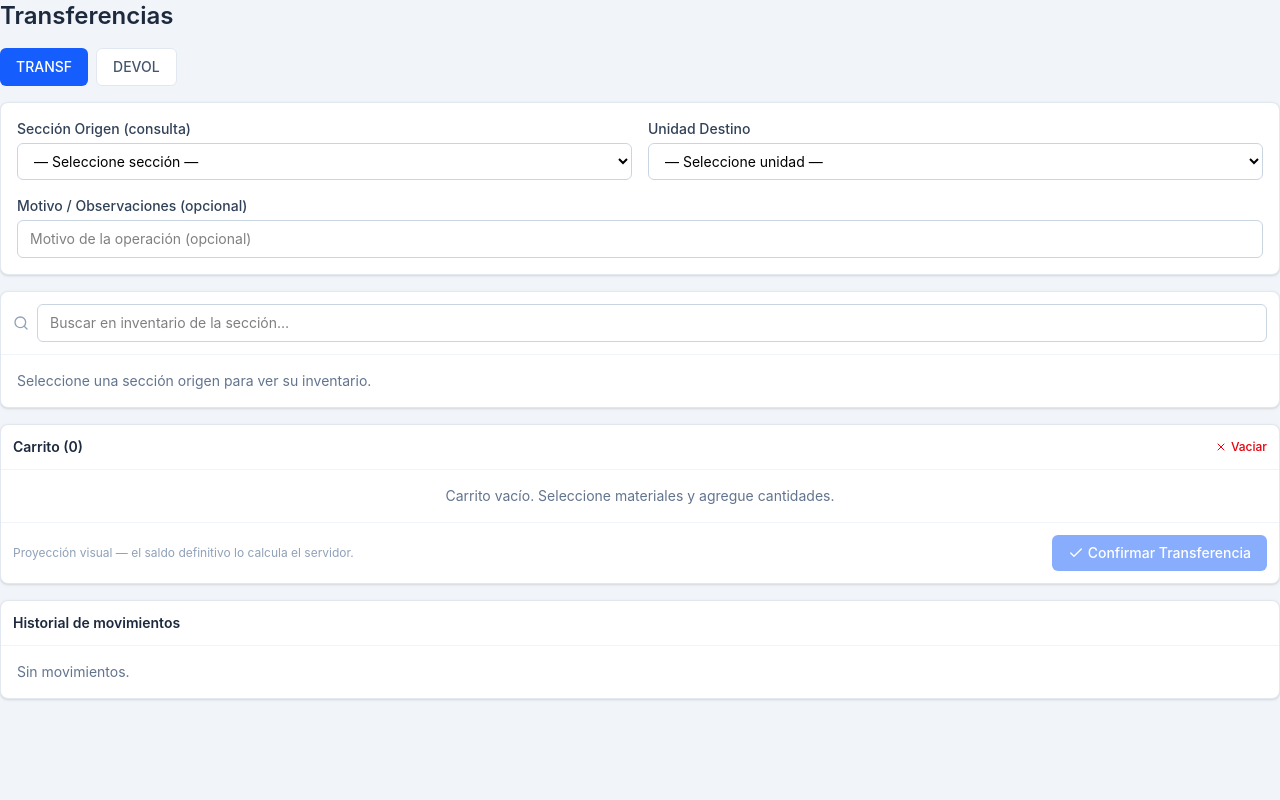
Test: Transferencias — Inventario FO único (REQ-TRF-001/002) › REQ-P2-REP-003: tras Confirmar Transferencia invalida las actas de Entrega y recarga el listado montado sin recargar la página
This screenshot has width=1280, height=800.
Select "Inventario FO" in the dropdown below "Sección Origen (consulta)": (324, 162) [17,143,632,180]
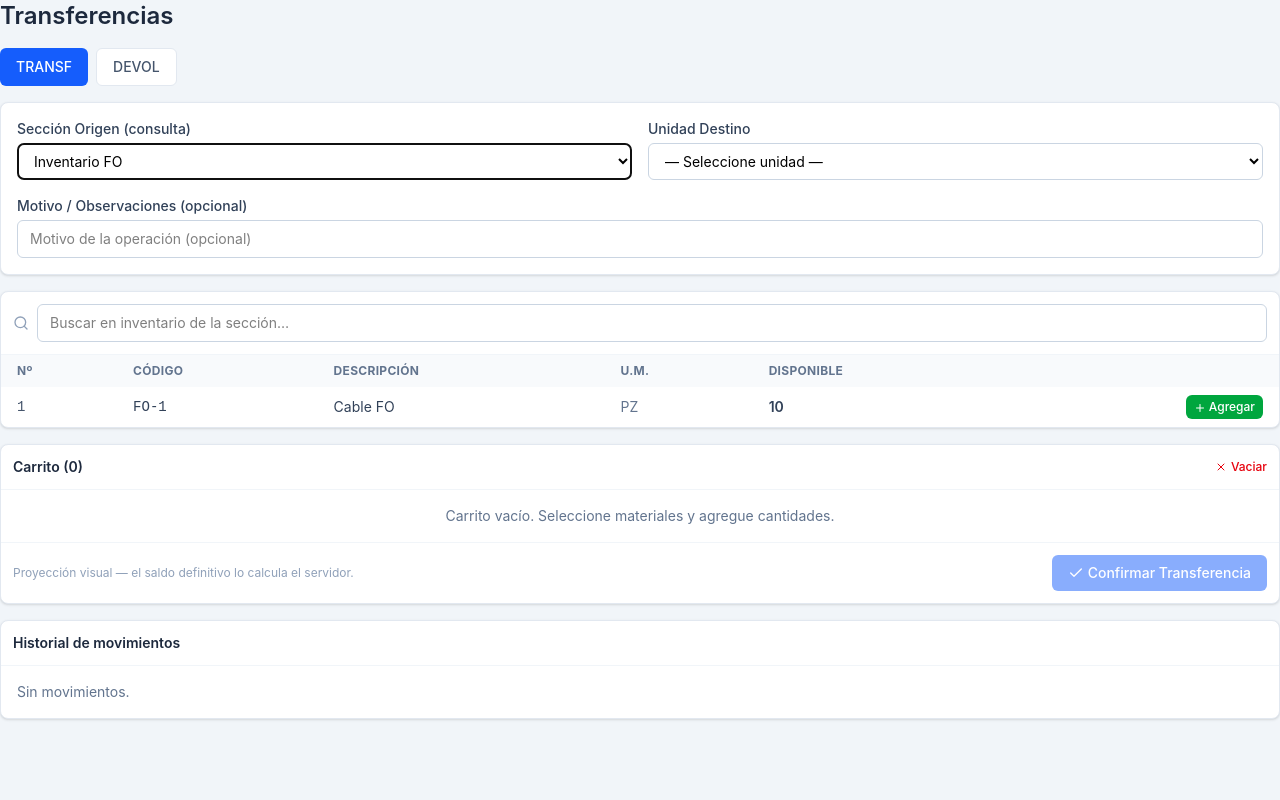
Select "Equipo QA" in the dropdown below "Unidad Destino": (956, 162) [648,143,1263,180]
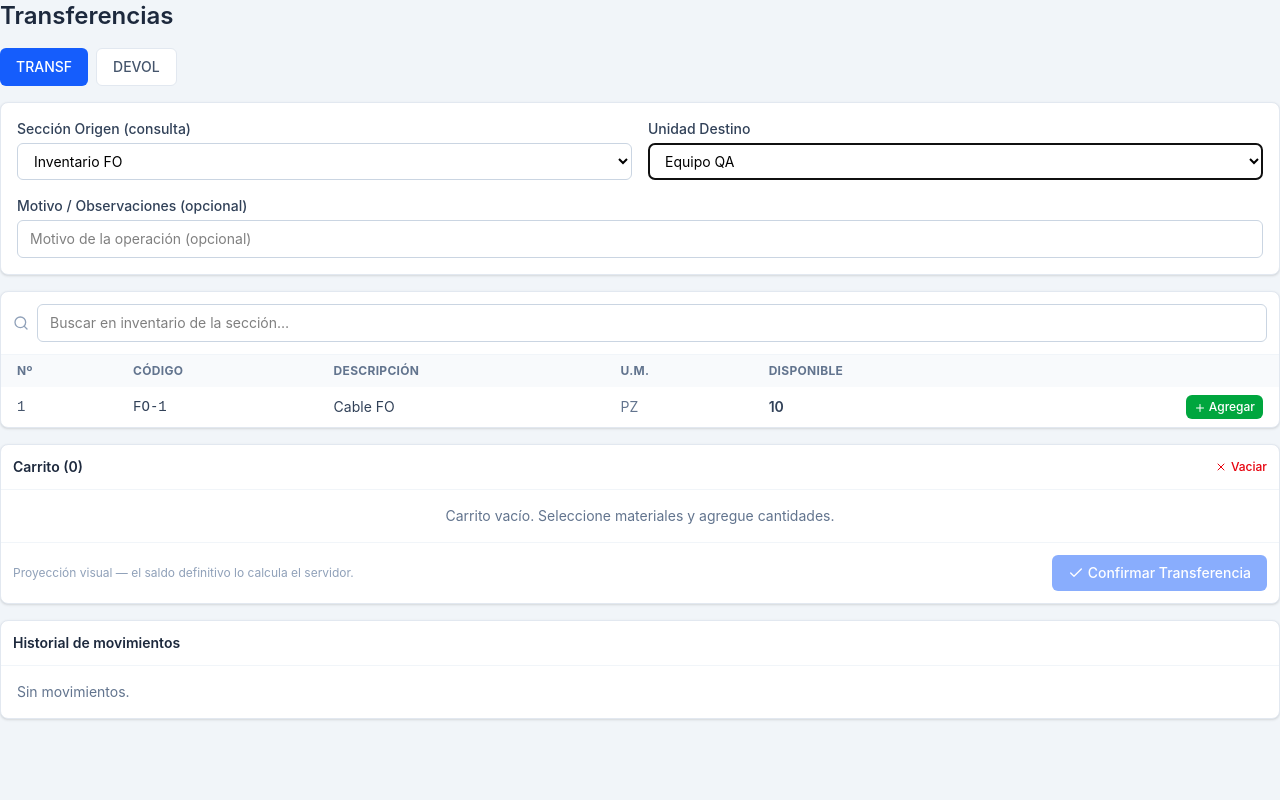
Click the button "Agregar": (1224, 407) [1186,395,1263,419]
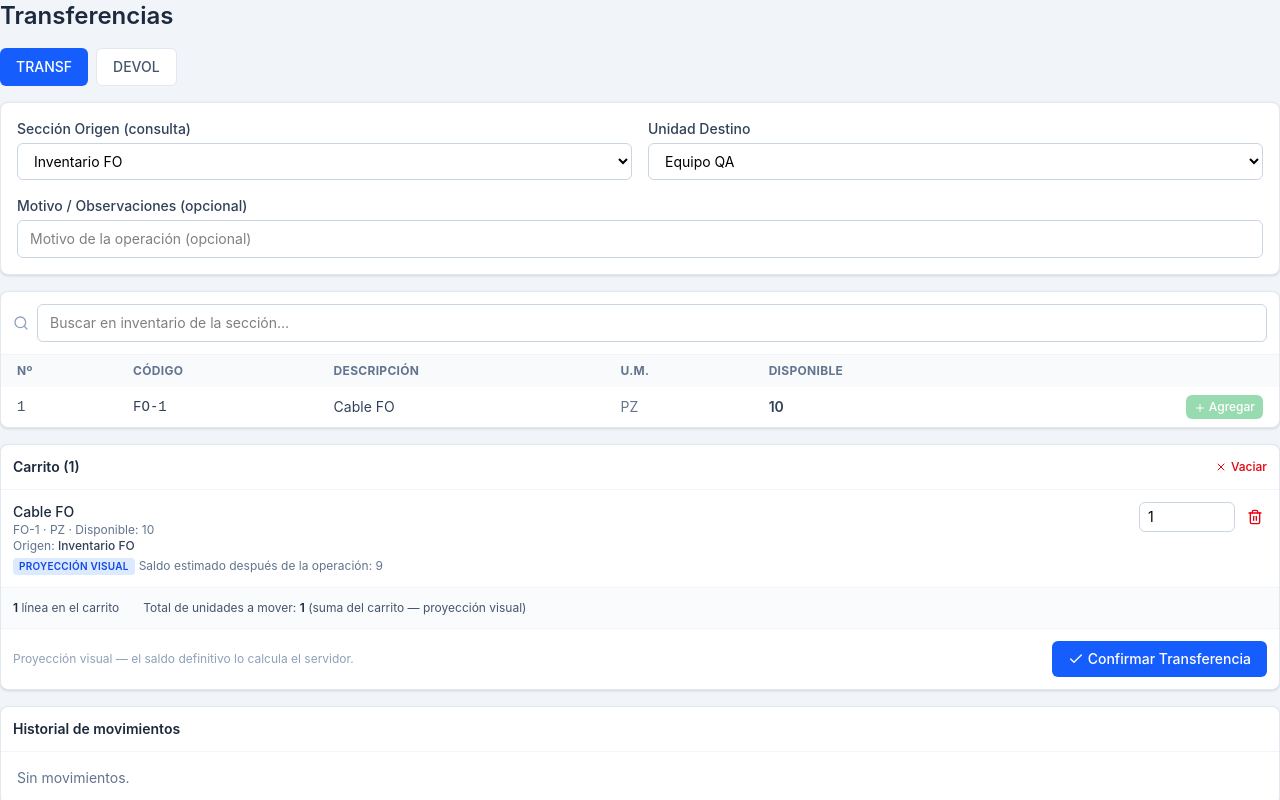
In the field labelled "Motivo / Observaciones (opcional)": (640, 239) [17,220,1263,258], type "Entrega QA"
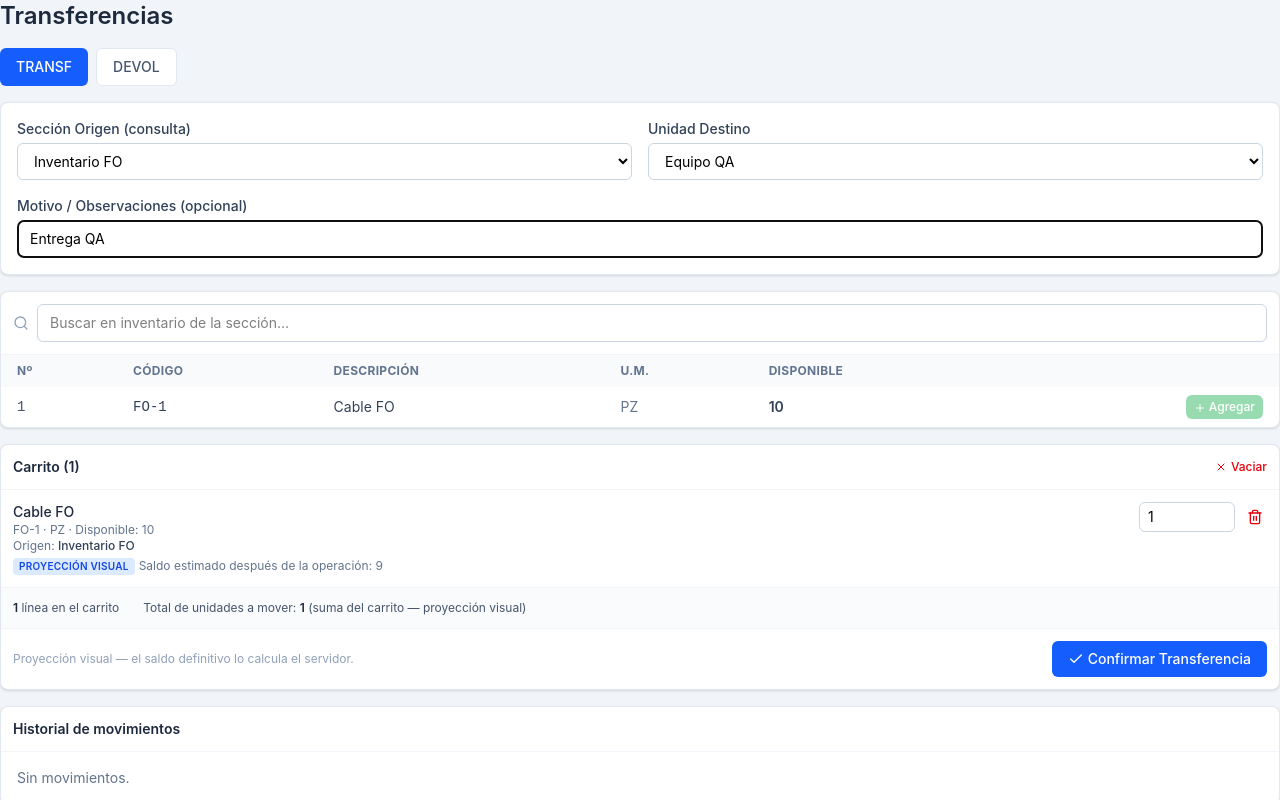
Click the button "Confirmar Transferencia": (1159, 659) [1052,641,1267,677]
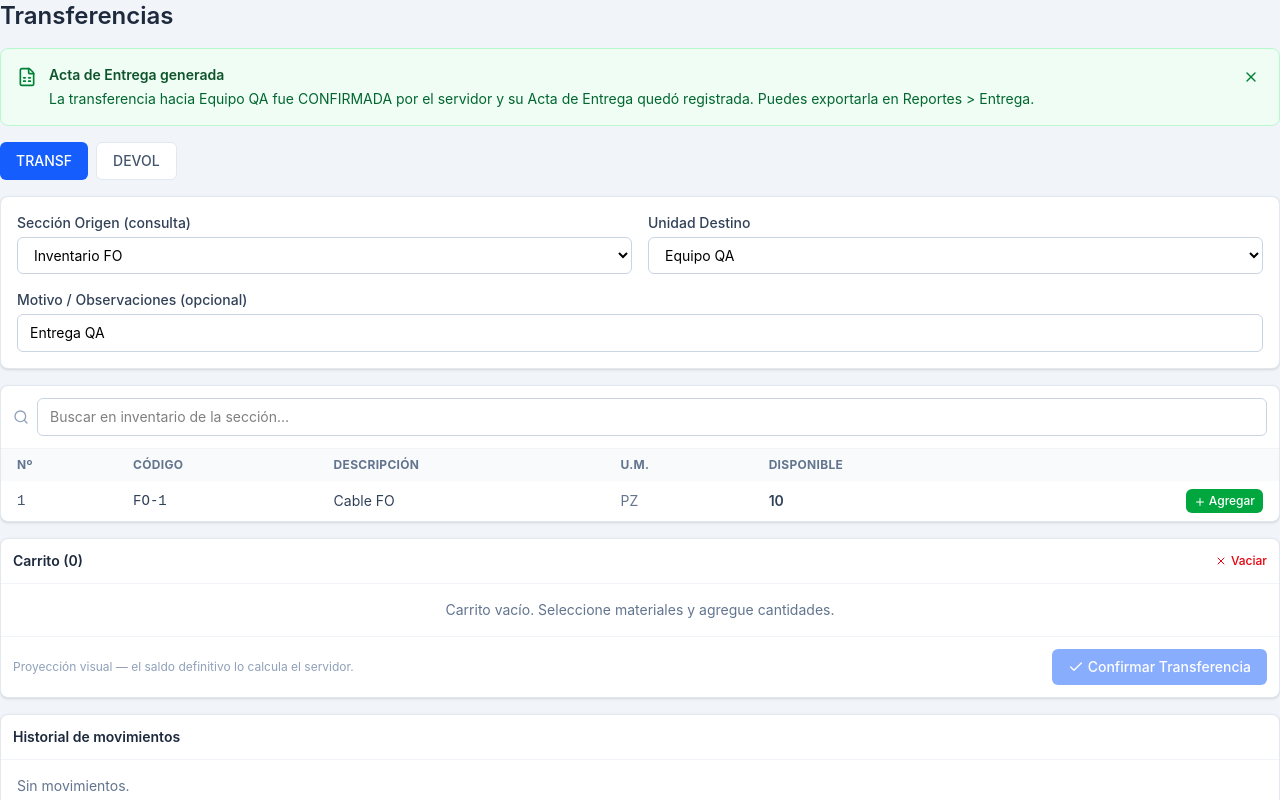
Now the text "Acta de Entrega generada" is shown, box [49,66,224,83]
